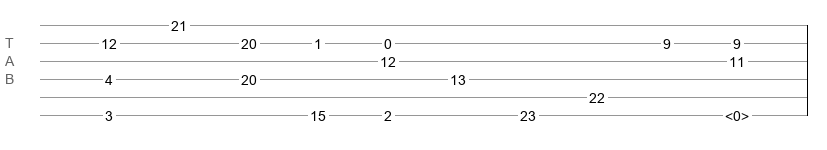0: (384, 36, 392, 46)
1: (314, 36, 322, 46)
11: (729, 54, 745, 64)
12: (101, 36, 117, 46), (380, 54, 396, 64)
13: (450, 72, 466, 82)
15: (310, 108, 326, 118)
2: (384, 108, 392, 118)
20: (241, 72, 257, 82), (241, 36, 257, 46)
21: (171, 18, 187, 28)
22: (589, 90, 605, 100)
23: (520, 108, 536, 118)
3: (105, 108, 113, 118)
4: (105, 72, 113, 82)
9: (663, 36, 671, 46), (733, 36, 741, 46)
harmonic: (725, 108, 749, 118)
